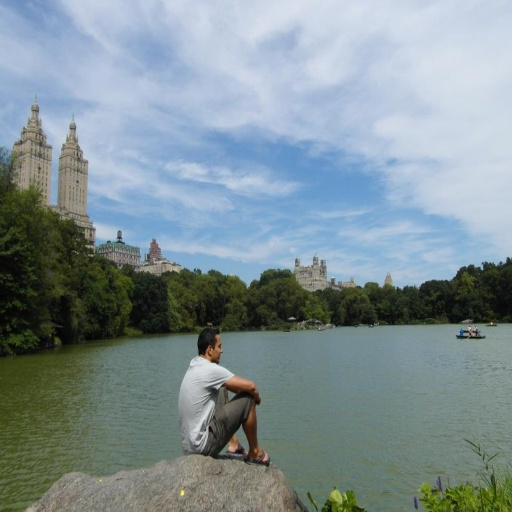hand: (254, 394, 261, 406)
